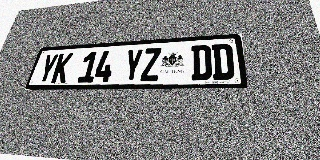1: (77, 51, 100, 83)
4: (93, 50, 116, 82)
D: (212, 43, 235, 80), (191, 45, 212, 80)
K: (50, 53, 74, 83)
Y: (122, 49, 144, 82), (36, 54, 59, 83)
Z: (140, 48, 161, 81)
